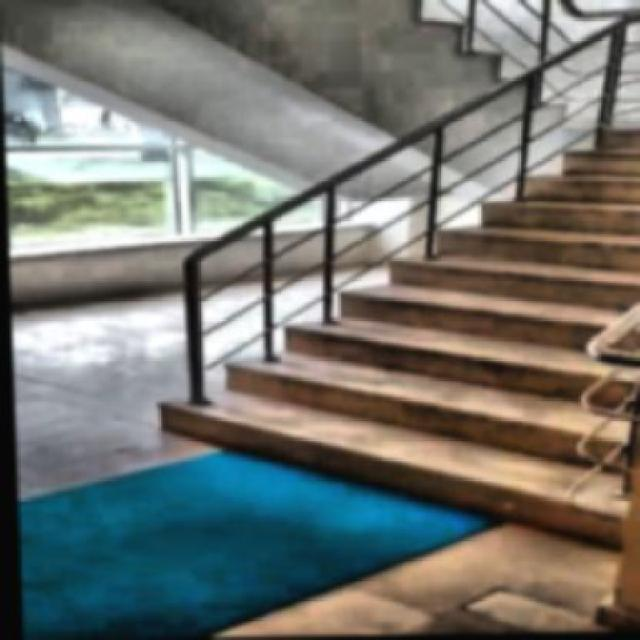stair: (97, 94, 638, 557)
